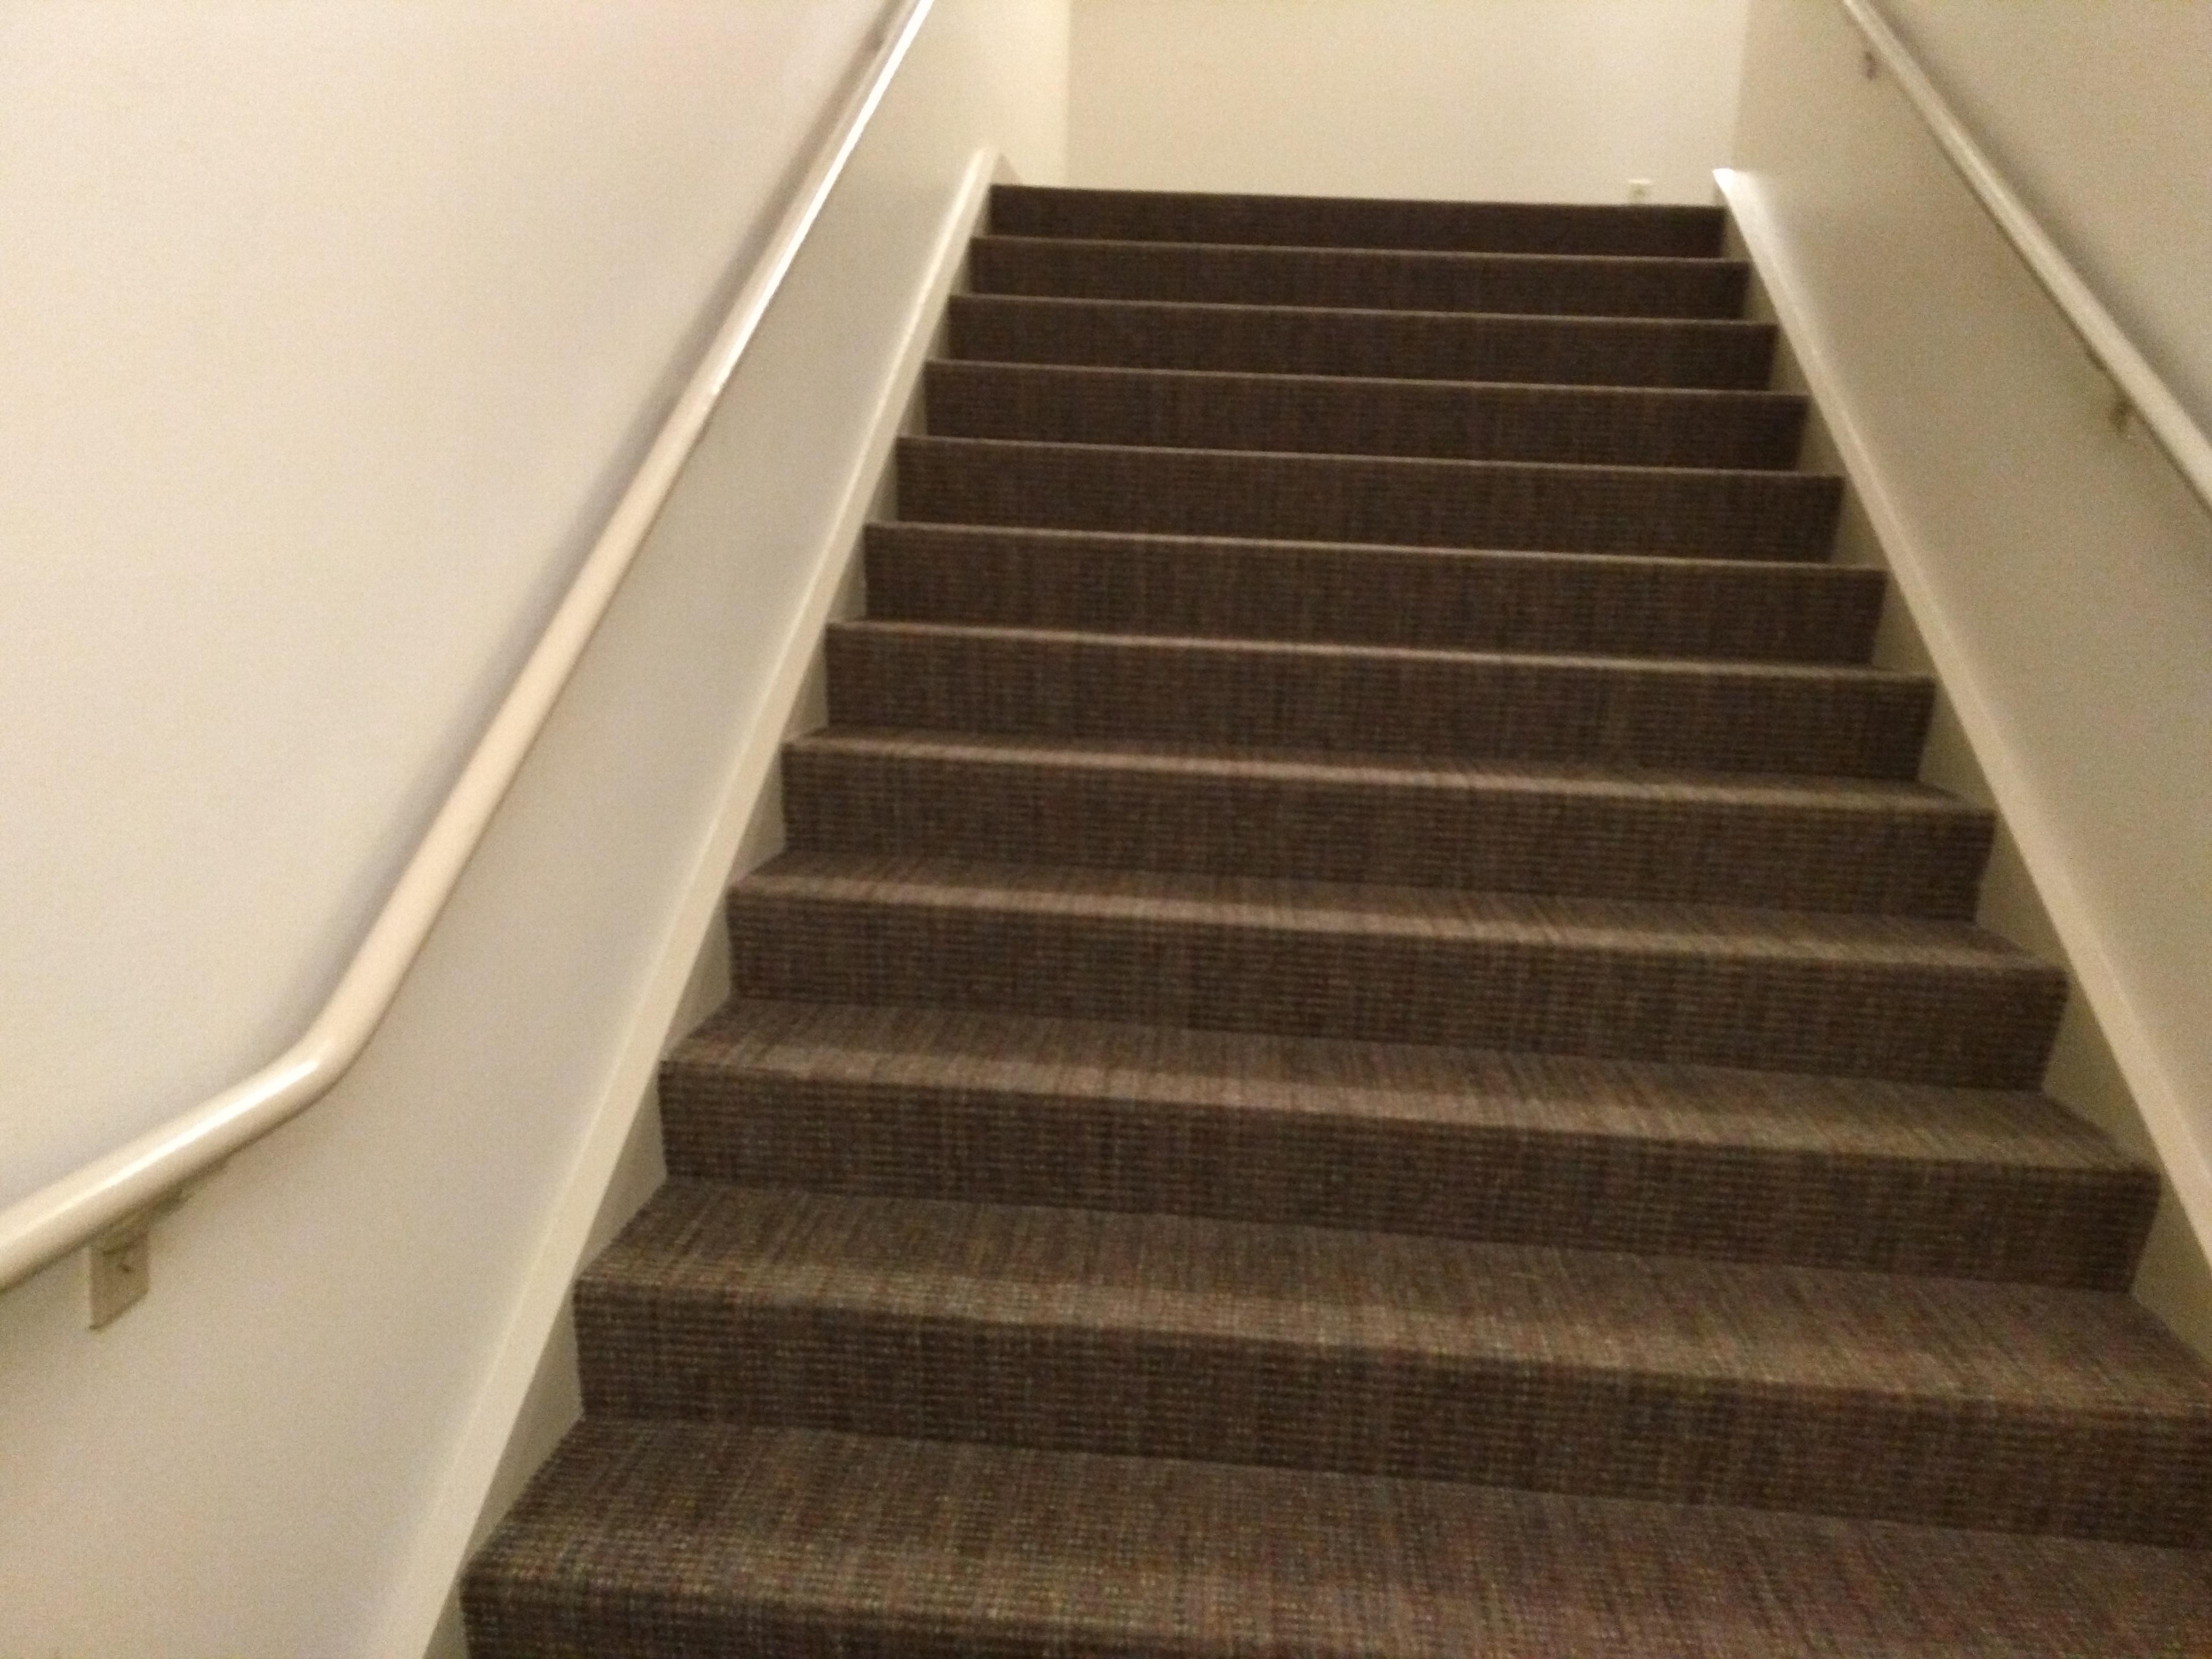stairs_up: (618, 112, 2203, 1561)
